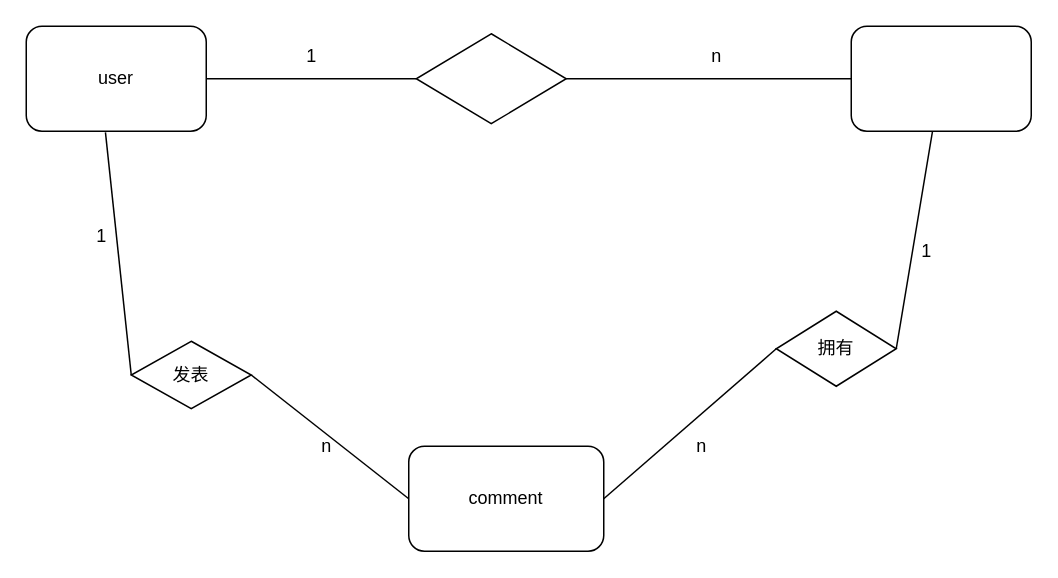
Some shapes in this 1058 by 578 pixel diagram are drawn without their labels. The shapes that lost their labels are listed below. From the top down, each one's centre as x and y in pixels, then its label:
pixel 490 78: 发布
pixel 940 78: discuss_post
